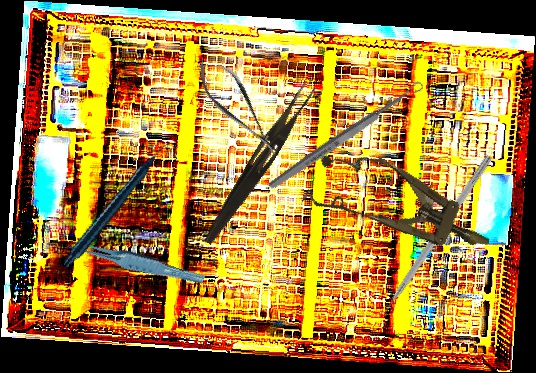Chopper: (365, 148, 494, 326)
Dressing Forceps: (201, 77, 317, 251)
Handpiece: (42, 142, 197, 268)
Micro Scissor: (187, 48, 288, 165)
Speculum: (301, 136, 503, 276)
Surgical Spoon: (265, 78, 427, 193)
Tissue Forceps: (66, 228, 206, 295)
